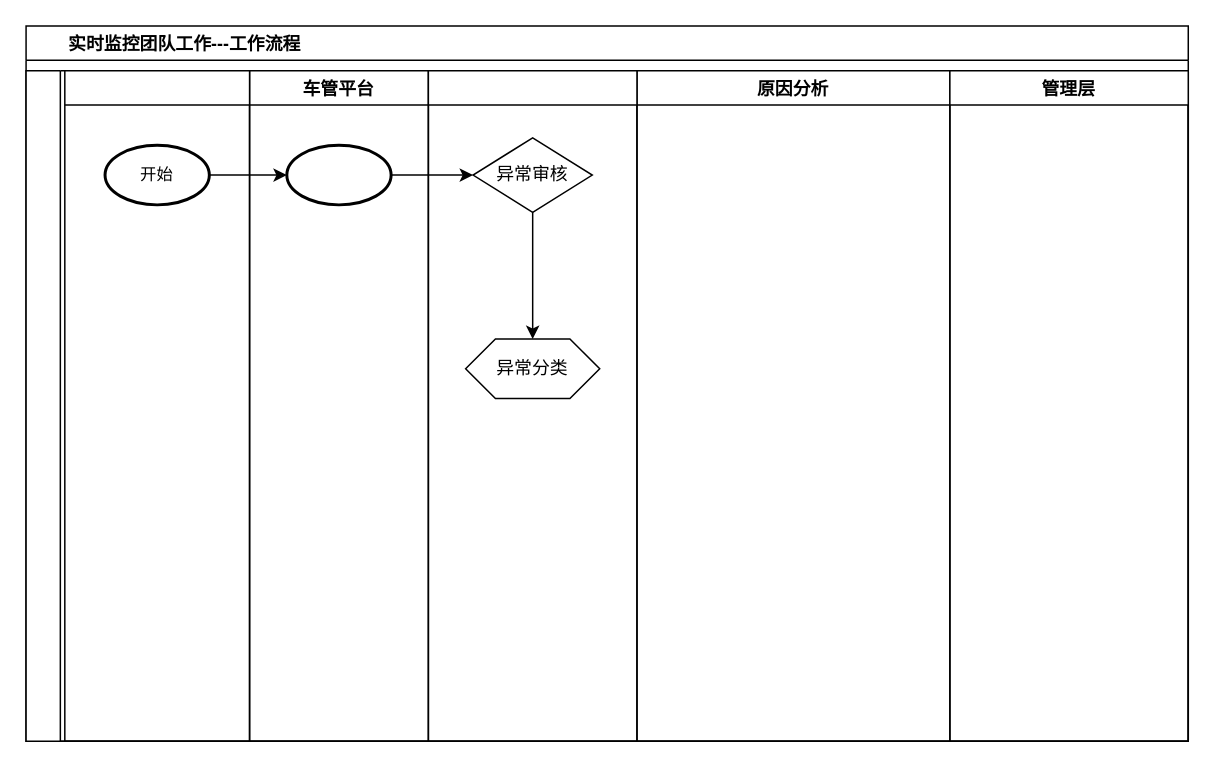
Image size: 1214x767. Some labels were removed from this diagram. Each missing label, with the box of its shape:
异常停驻: (285, 143, 392, 206)
监控团队: (427, 69, 637, 741)
车辆行为: (63, 69, 250, 741)
